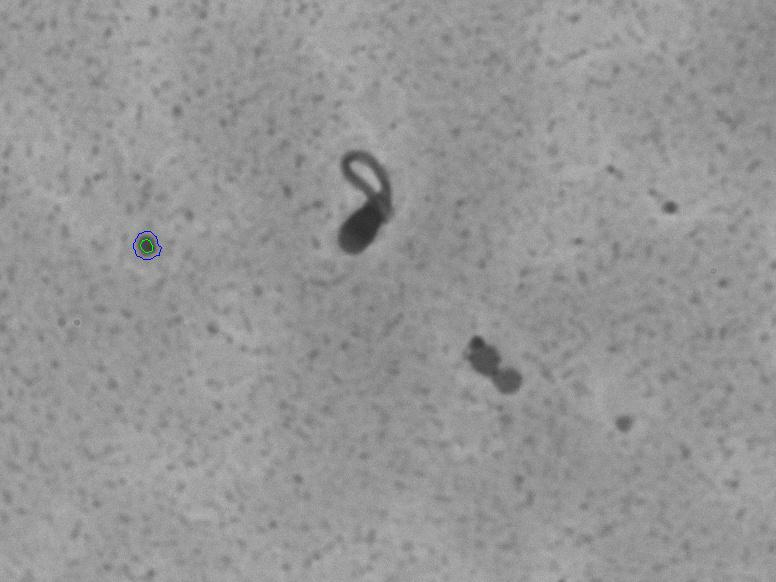Abnormal: (292, 114, 444, 282)
